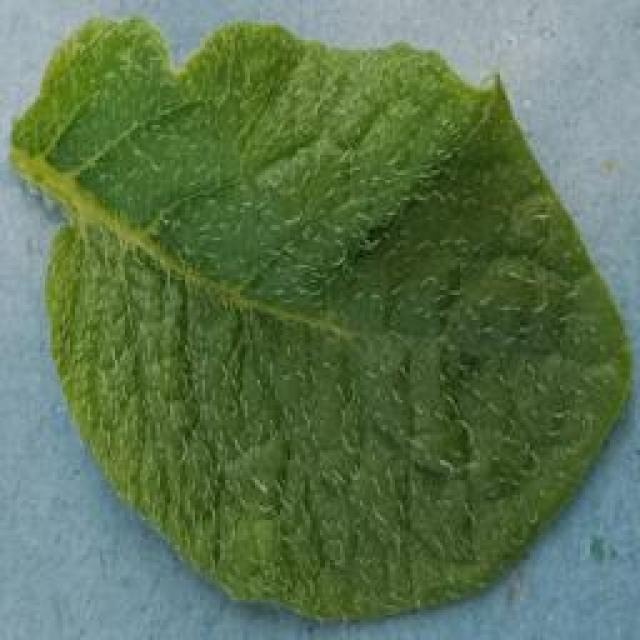Potato_Healthy: (11, 15, 621, 620)
